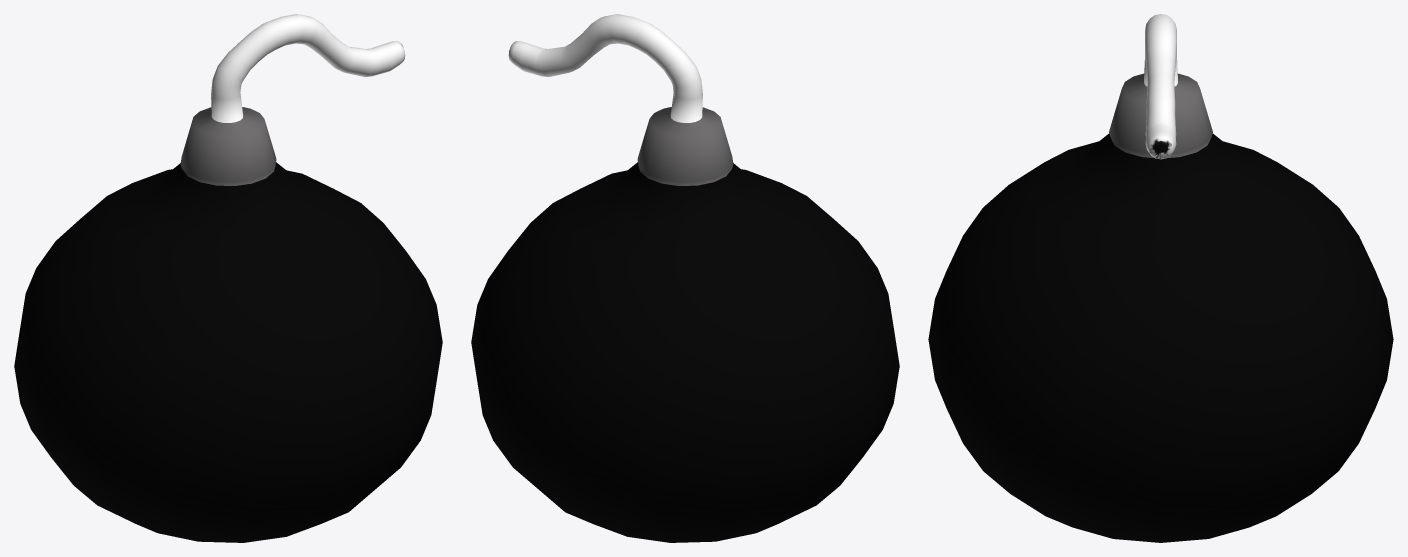
Rendered from bomblock.obj.
The picture shows the model from 3 angles, left to right: view 1: azimuth 30°, elevation 25°; view 2: azimuth 150°, elevation 25°; view 3: azimuth 270°, elevation 25°; orthographic projection. The views are drawn at different scales.
Visible parts, largest first — view 1: Regular_Bomb; view 2: Regular_Bomb; view 3: Regular_Bomb.
Boxes of the visible parts, x1,y1,x2,y2 form: Regular_Bomb: [14, 14, 442, 542]; Regular_Bomb: [471, 14, 899, 542]; Regular_Bomb: [928, 14, 1393, 542].
Bounding box in the file's own units: 2.5 × 3.14 × 2.5.
Materials: 1 (1 with a texture image).
